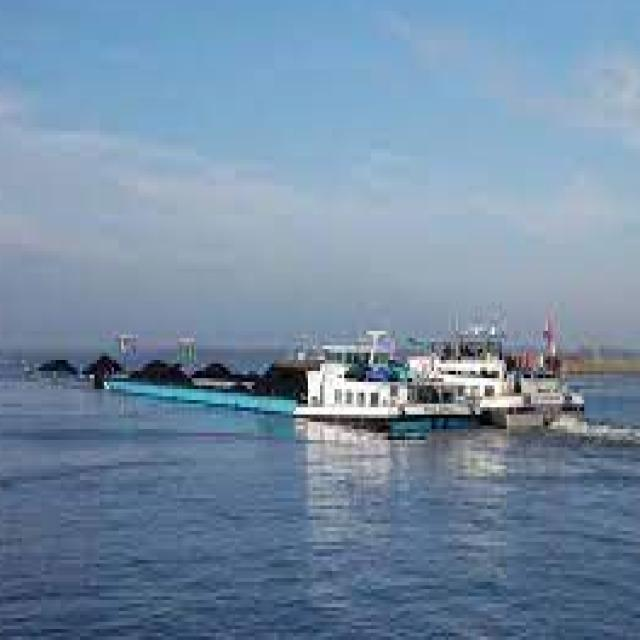fishing boat: (298, 321, 553, 458)
